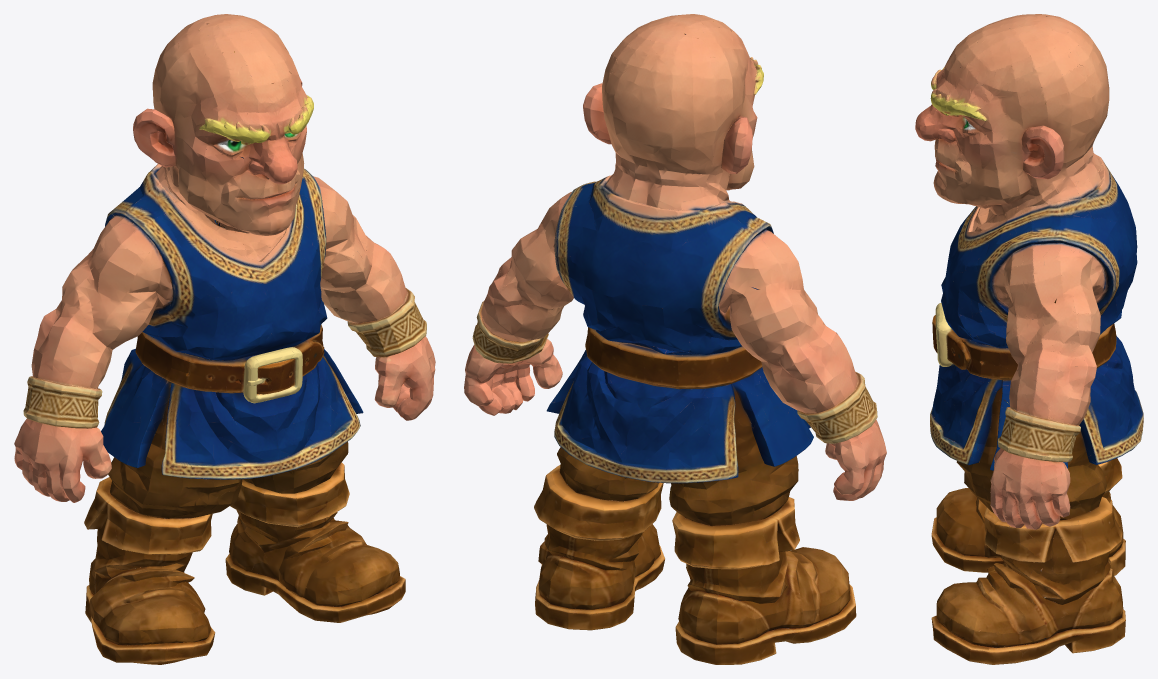
File: model-remeshed.glb
3 renders of one model, left to right at view 1: azimuth 30°, elevation 25°; view 2: azimuth 150°, elevation 25°; view 3: azimuth 270°, elevation 25°, orthographic.
Visible parts, largest first — view 1: output_unwrapped; view 2: output_unwrapped; view 3: output_unwrapped.
Part boxes in pixels (bbox=[...]): output_unwrapped: bbox=[14, 14, 435, 664]; output_unwrapped: bbox=[464, 14, 886, 664]; output_unwrapped: bbox=[915, 14, 1143, 664].
Bounding box in the file's own units: 1.37 × 1.9 × 0.6828.
Materials: 1 (1 with a texture image).
